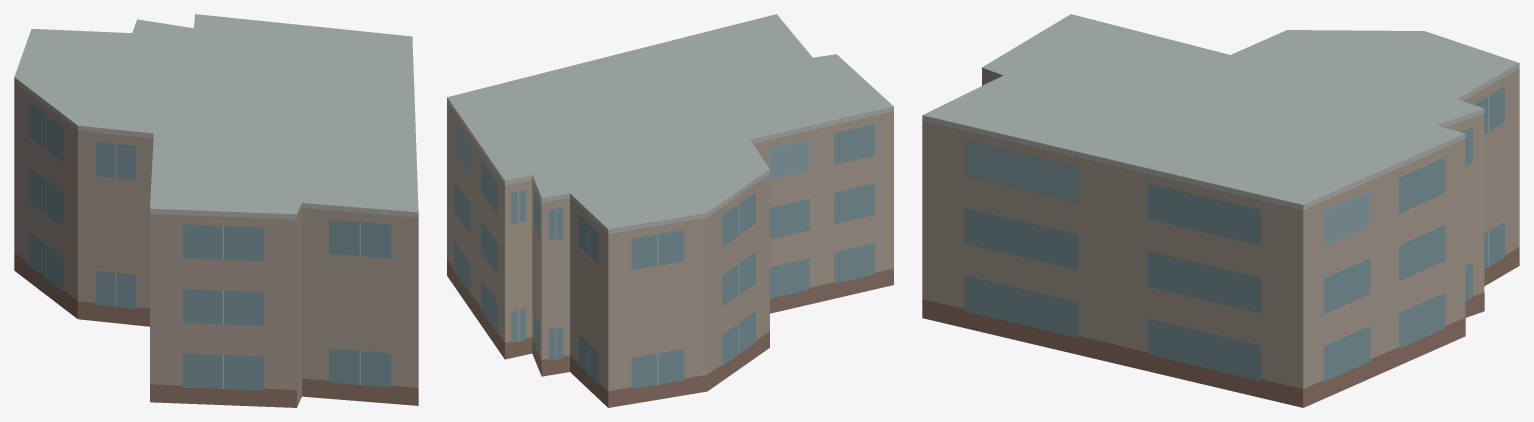
The model's file is survey-upis-32460671.glb.
3 views of the same model, side by side, from view 1: azimuth 30°, elevation 25°; view 2: azimuth 150°, elevation 25°; view 3: azimuth 270°, elevation 25° (orthographic). The views are drawn at different scales.
Parts seen in each view (by area): view 1: survey-upis-32460671.tmp; view 2: survey-upis-32460671.tmp; view 3: survey-upis-32460671.tmp.
Boxes of the visible parts, bbox=[...] form: survey-upis-32460671.tmp: bbox=[14, 14, 418, 407]; survey-upis-32460671.tmp: bbox=[447, 14, 893, 407]; survey-upis-32460671.tmp: bbox=[922, 14, 1519, 407].
Size of the model in its own units: 18.48 by 9.15 by 24.41.
